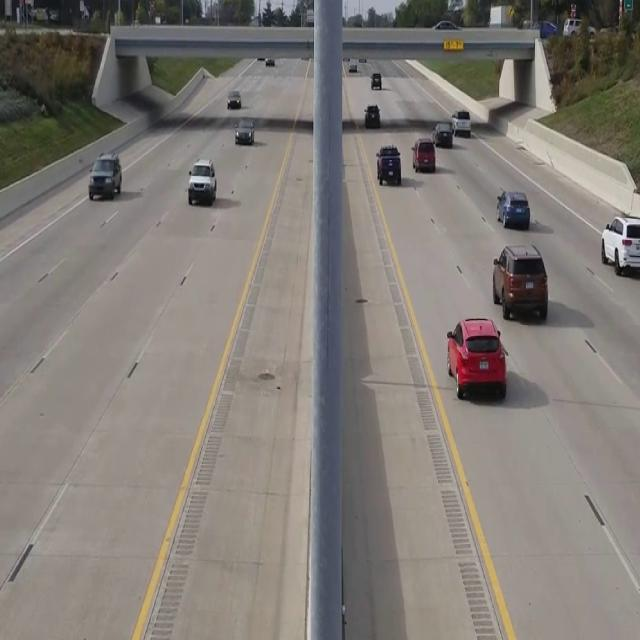car: (446, 316, 508, 399), (492, 244, 548, 320), (600, 214, 640, 277), (88, 153, 121, 200), (496, 188, 530, 229), (187, 159, 216, 204), (375, 145, 401, 185), (412, 137, 436, 172), (235, 120, 254, 146), (365, 103, 380, 128), (227, 90, 240, 108)
